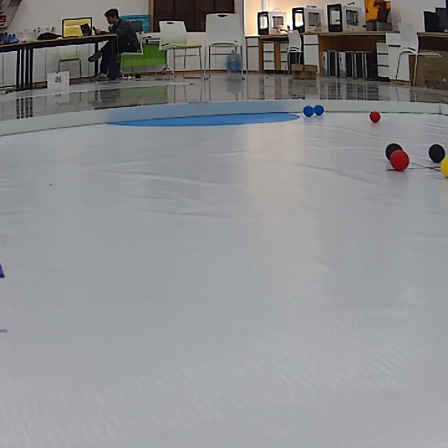black: (427, 142, 446, 162), (387, 142, 404, 160)
blue: (299, 103, 314, 117), (313, 104, 327, 118)
blue_base: (102, 115, 299, 131)
red: (393, 154, 413, 172), (368, 112, 382, 124)
yellow: (439, 153, 448, 182)
